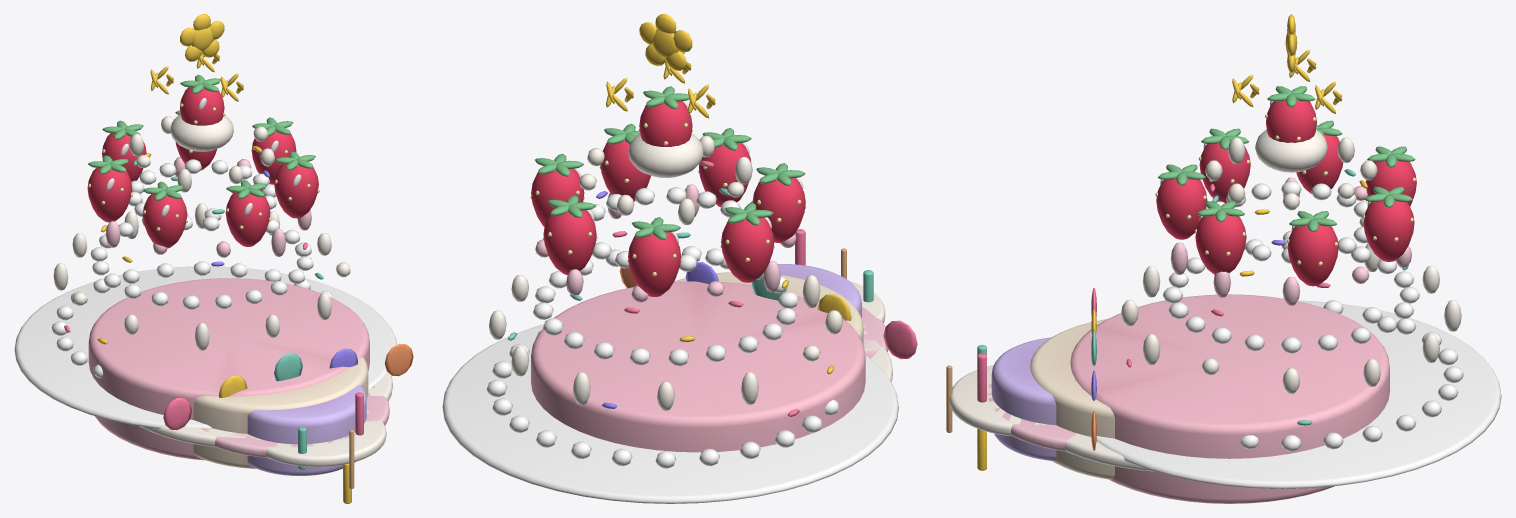
Rendered from festivalcake.glb.
The picture shows the model from 3 angles, left to right: view 1: azimuth 30°, elevation 25°; view 2: azimuth 150°, elevation 25°; view 3: azimuth 270°, elevation 25°; orthographic projection. The views are drawn at different scales.
Visible parts, largest first — view 1: tier_0, gffffff, gf04466, cfffaf0, tier_1, tier_2, gfffaf0, c7cc68a, gffd54a, cap_1, gffd1e0, cff7ea6 (+5 smaller); view 2: tier_0, gffffff, gf04466, gfffaf0, c7cc68a, cfffaf0, gffd54a, gffd1e0, cff7ea6, tier_2, tier_1, c7fd6c2 (+3 smaller); view 3: tier_0, gffffff, gf04466, gfffaf0, cfffaf0, tier_1, tier_2, c7cc68a, gffd1e0, gffd54a, cap_1, cff7ea6 (+1 smaller).
Boxes of the visible parts, x1,y1,x2,y2 form: tier_0: [88, 278, 369, 460]; gffffff: [14, 159, 396, 428]; gf04466: [87, 87, 318, 248]; cfffaf0: [139, 114, 392, 466]; tier_1: [193, 335, 368, 468]; tier_2: [247, 385, 366, 475]; gfffaf0: [53, 116, 350, 350]; c7cc68a: [88, 75, 315, 200]; gffd54a: [150, 14, 243, 101]; cap_1: [201, 386, 389, 457]; gffd1e0: [105, 157, 311, 257]; cff7ea6: [64, 189, 363, 435]; tier_0: [531, 281, 865, 452]; gffffff: [442, 187, 898, 503]; gf04466: [531, 101, 805, 296]; gfffaf0: [489, 135, 842, 410]; c7cc68a: [535, 86, 805, 239]; cfffaf0: [628, 133, 892, 381]; gffd54a: [606, 14, 715, 118]; gffd1e0: [535, 184, 796, 302]; cff7ea6: [612, 160, 917, 416]; tier_2: [777, 264, 861, 317]; tier_1: [674, 272, 863, 344]; c7fd6c2: [508, 188, 873, 340]; tier_0: [1070, 294, 1389, 503]; gffffff: [1090, 181, 1501, 488]; gf04466: [1156, 99, 1416, 286]; gfffaf0: [1121, 137, 1461, 393]; cfffaf0: [949, 129, 1327, 471]; tier_1: [1030, 319, 1229, 479]; tier_2: [991, 337, 1056, 460]; c7cc68a: [1158, 86, 1415, 232]; gffd1e0: [1170, 177, 1411, 305]; gffd54a: [1232, 14, 1341, 113]; cap_1: [987, 384, 1096, 451]; cff7ea6: [977, 184, 1330, 402].
Bounding box in the file's own units: 0.6 × 0.6773 × 0.7595.
